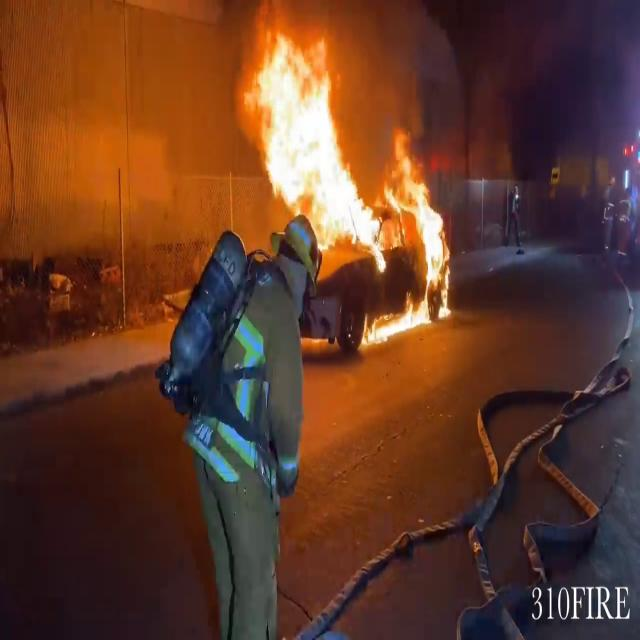Fire: (239, 16, 396, 276), (399, 143, 454, 317), (364, 294, 431, 347)
